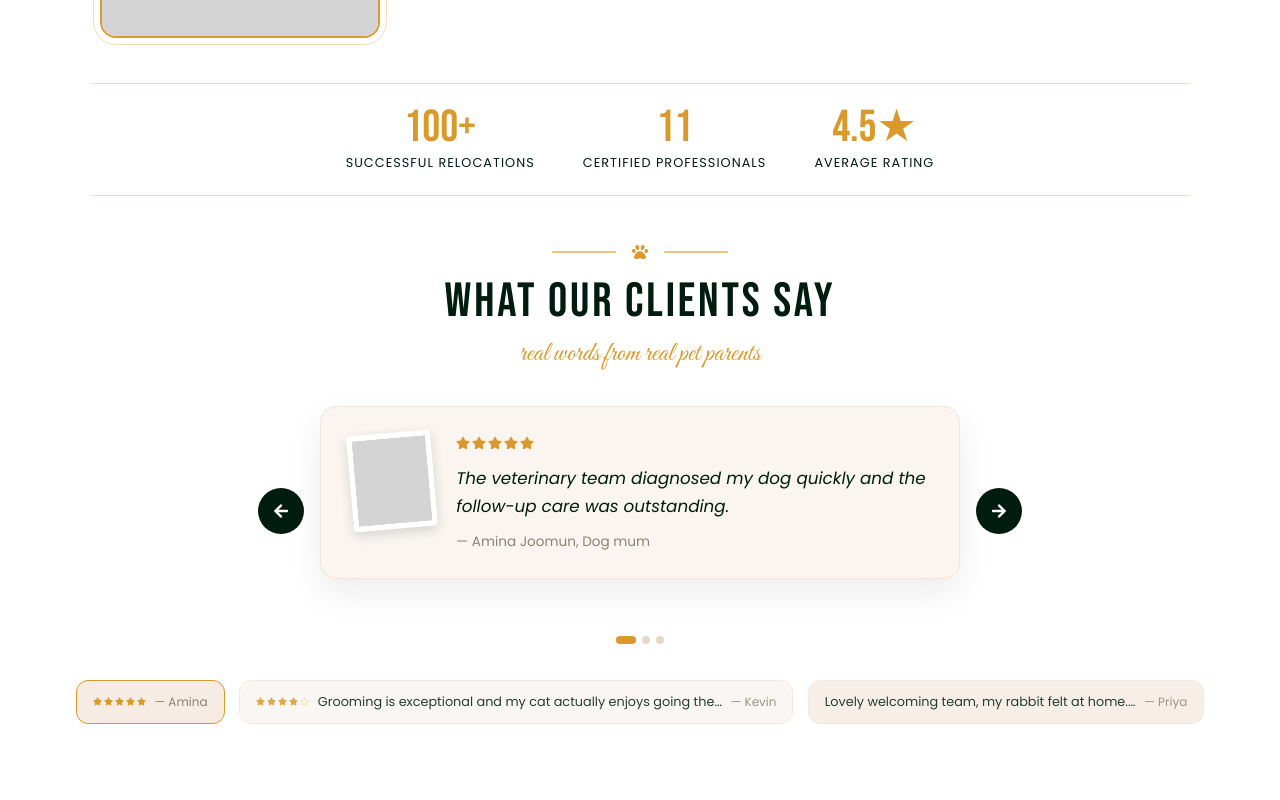
Test: StatsSection (trust story band) › dot N selects testimonial N
This screenshot has width=1280, height=800.
(page scrolled)
Expected: the text "follow-up care was outstanding" is shown, [456,466,926,518]
Click the button named "Go to testimonial 3". click: (660, 640)
box: [656,636,664,644]
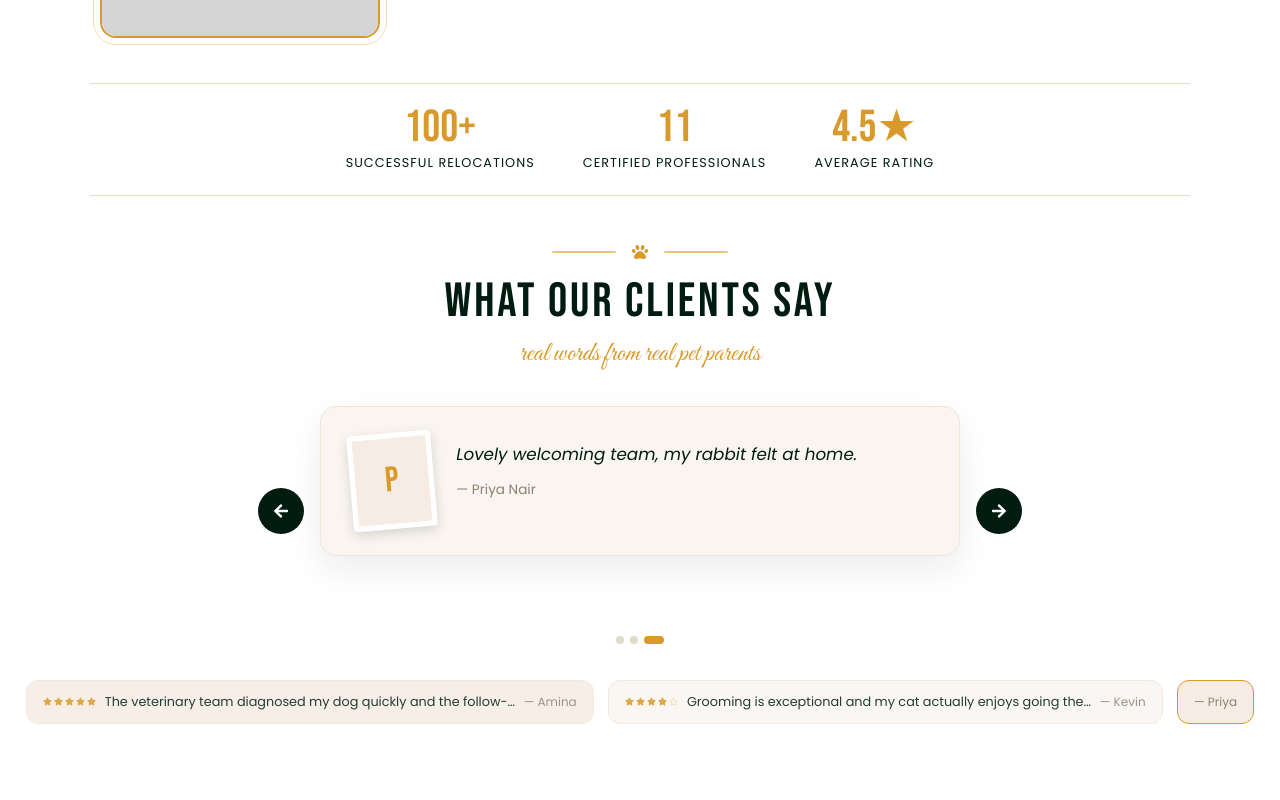
Expected: the text "Lovely welcoming team, my rabbit felt at home." is shown, [456,441,857,469]
